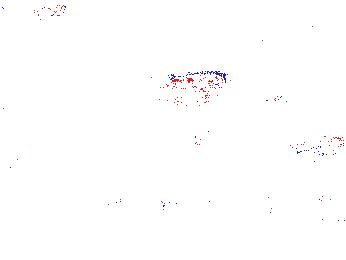X-ray fish: (160, 70, 234, 108), (299, 2, 325, 35)
glassfish: (177, 91, 285, 156), (105, 192, 177, 214)
red belly glassfish: (295, 134, 346, 157), (147, 70, 193, 88)
redtail glassfish: (1, 1, 70, 21)
